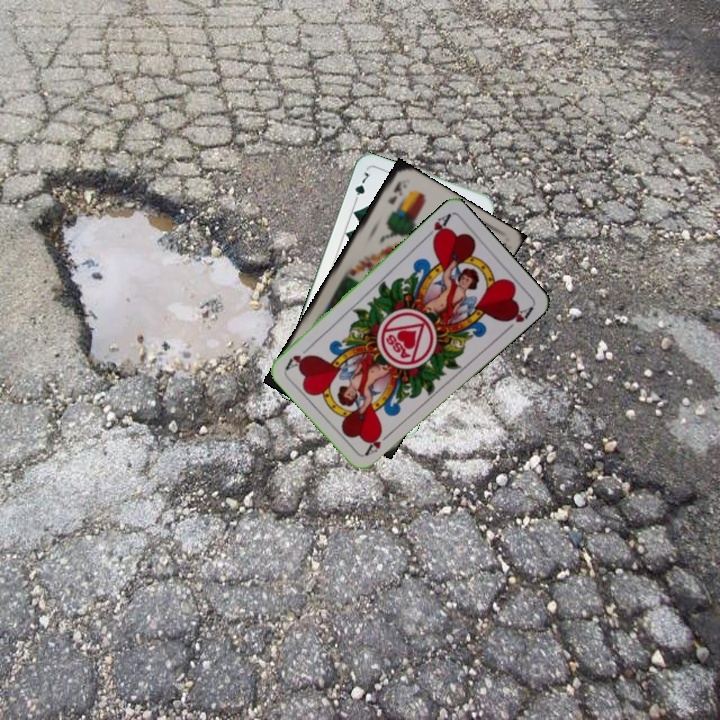EK: (384, 177, 404, 207)
G7: (350, 168, 372, 206)
HA: (420, 210, 453, 244), (361, 427, 395, 458)
